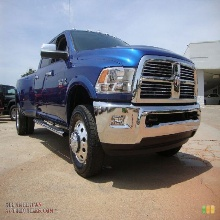no damage: (14, 29, 202, 179), (1, 84, 15, 121)
